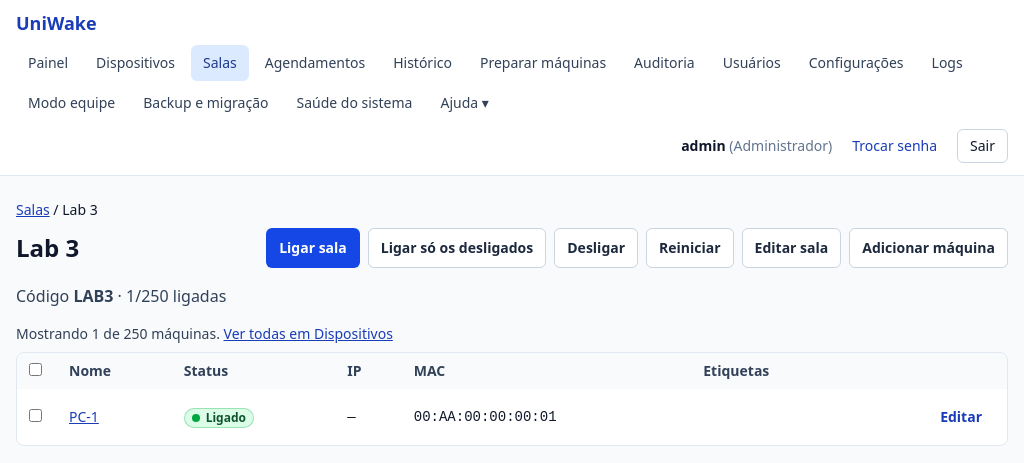
Test: M2 review fixes (web) › R-M2-04 the room page says when it shows only part of the devices and links to the full list
The width and height of the screenshot is (1024, 463).
Expected: the text "Mostrando 1 de 250 máquinas. Ver todas em Dispositivos" is shown, [16,324,393,343]
Step 1. Click the link "Ver todas em Dispositivos" → [308, 334], box [224,324,393,343]
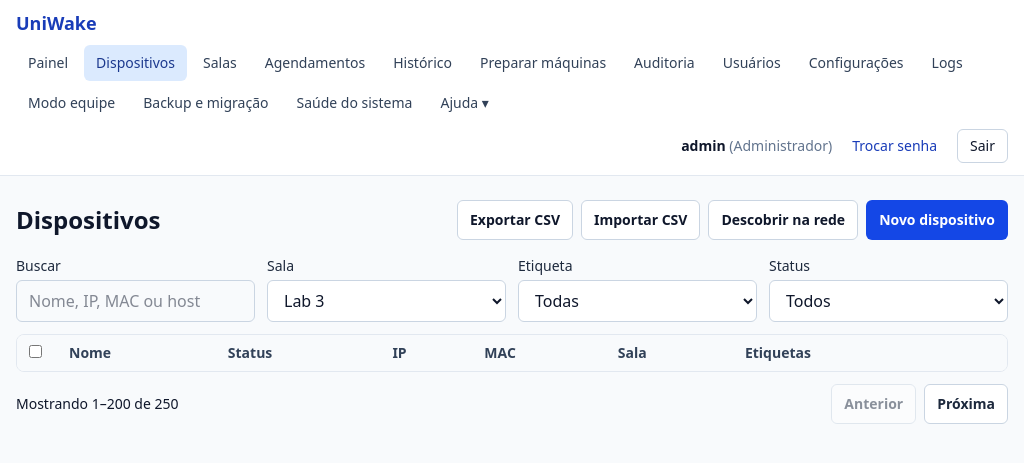
Expected: the heading "Dispositivos" is shown, [16,204,160,236]
Expected: the dropdown labelled "Sala" shows "Lab 3", [267,280,506,322]
